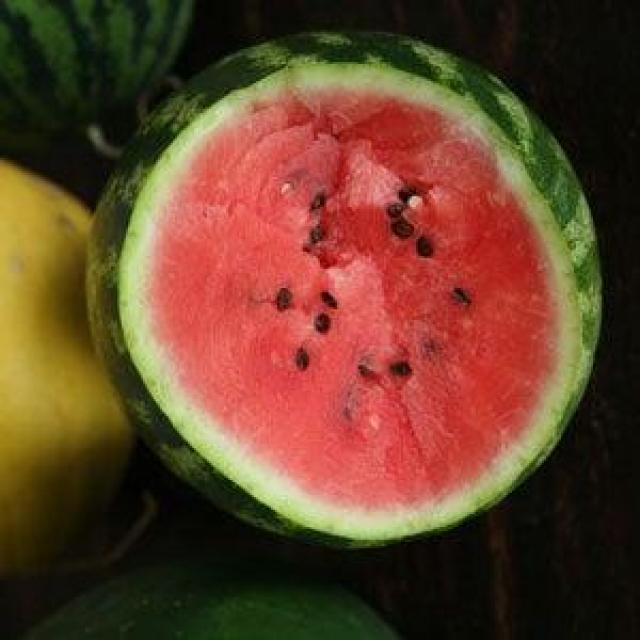watermelon: (98, 26, 610, 554), (0, 2, 201, 144)
